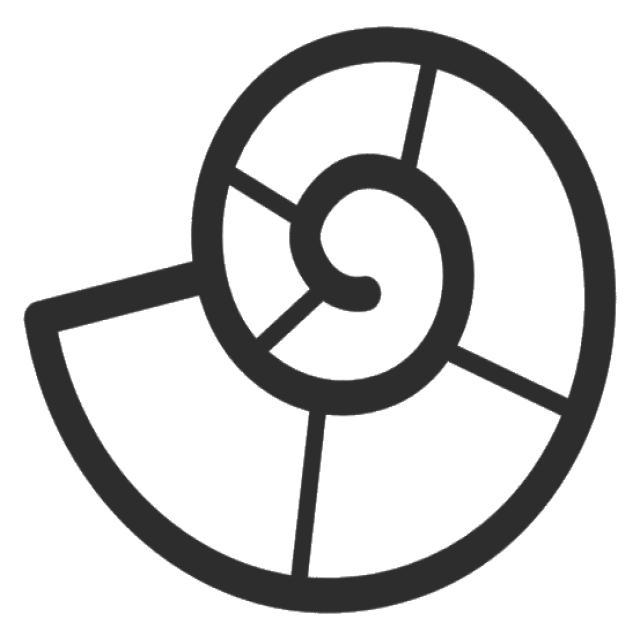fossil: (17, 17, 625, 627)
